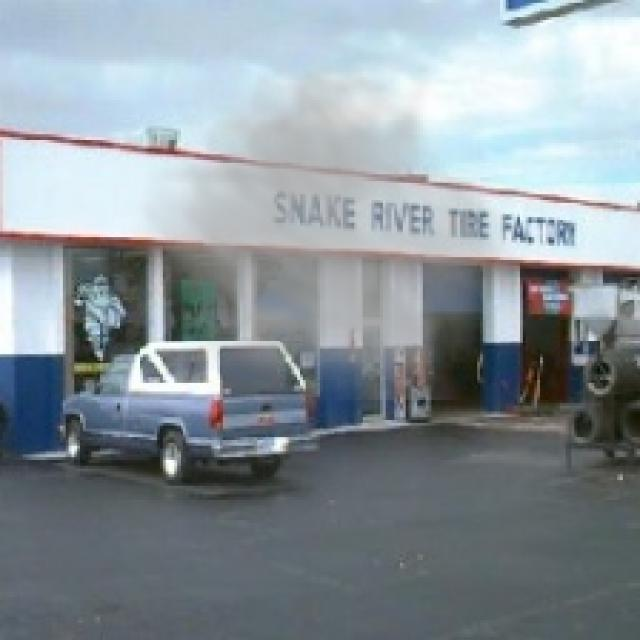smoke: (123, 26, 531, 400)
